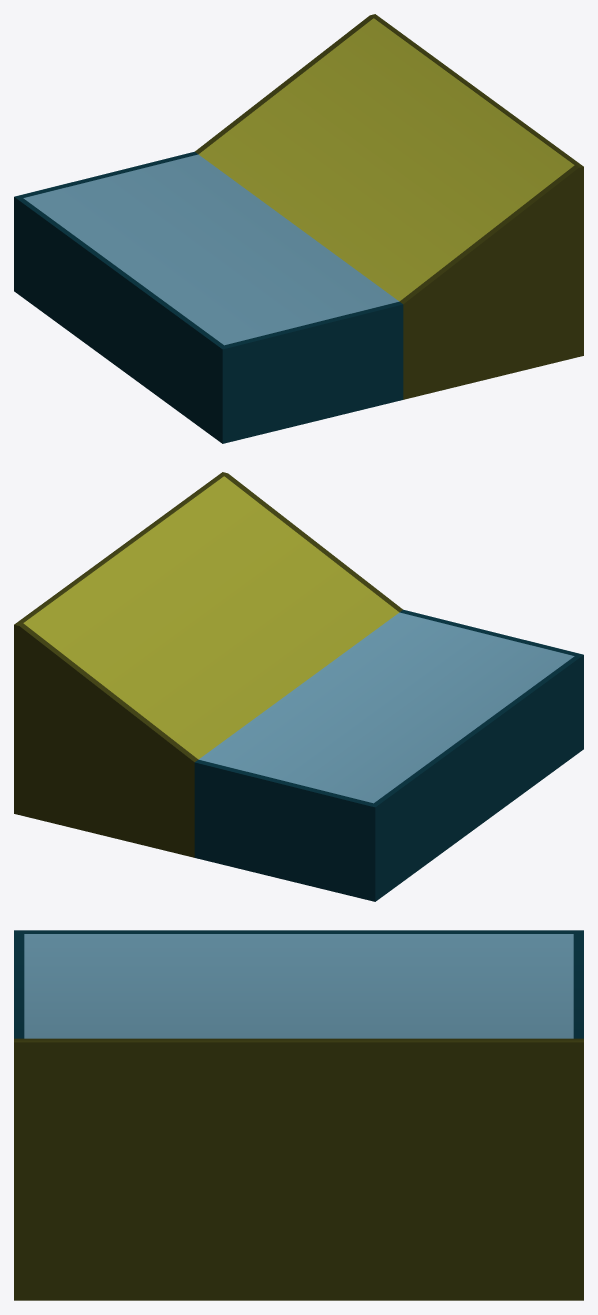
Rendered from Agua_9.fbx.
The picture shows the model from 3 angles, top to bottom: view 1: azimuth 30°, elevation 25°; view 2: azimuth 150°, elevation 25°; view 3: azimuth 270°, elevation 25°; orthographic projection. The views are drawn at different scales.
Parts seen in each view (by area): view 1: pCube2; view 2: pCube2; view 3: pCube2.
Part boxes in pixels (box(x1,y1,x2,y2)): pCube2: box(14, 14, 583, 443); pCube2: box(14, 472, 583, 901); pCube2: box(14, 930, 583, 1300).
Size of the model in its own units: 200 by 100 by 200.
